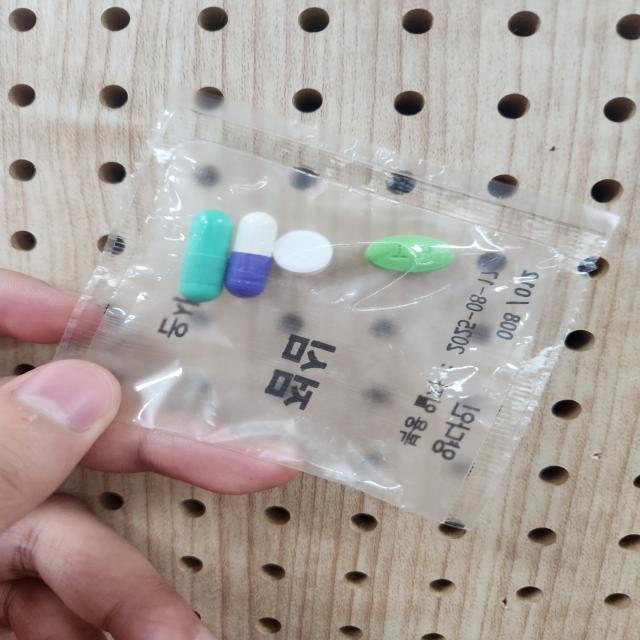러키펜정: (274, 229, 337, 277)
씨엠지세파클러캡슐: (225, 212, 279, 302)
에르도캡슐: (178, 208, 234, 309)
휴티렌정: (365, 235, 460, 276)
